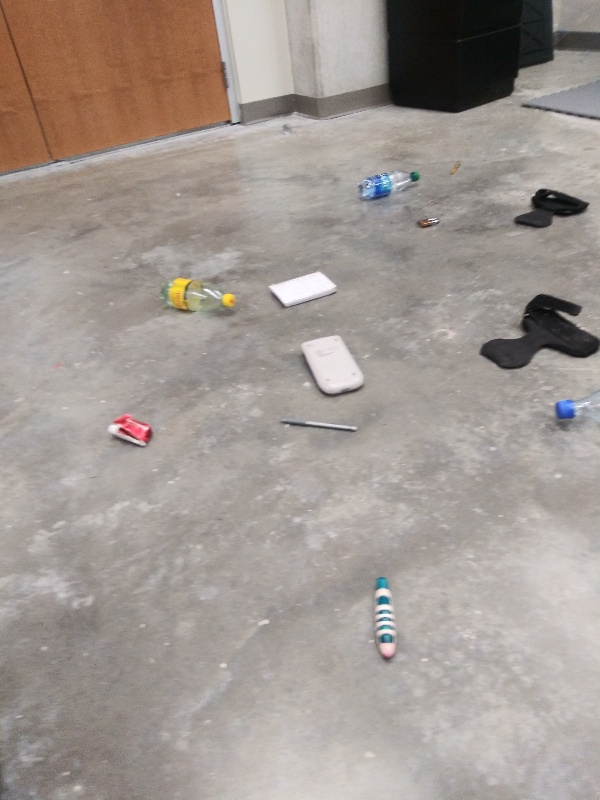bottle: (158, 277, 239, 316), (354, 168, 425, 204), (549, 381, 600, 430)
